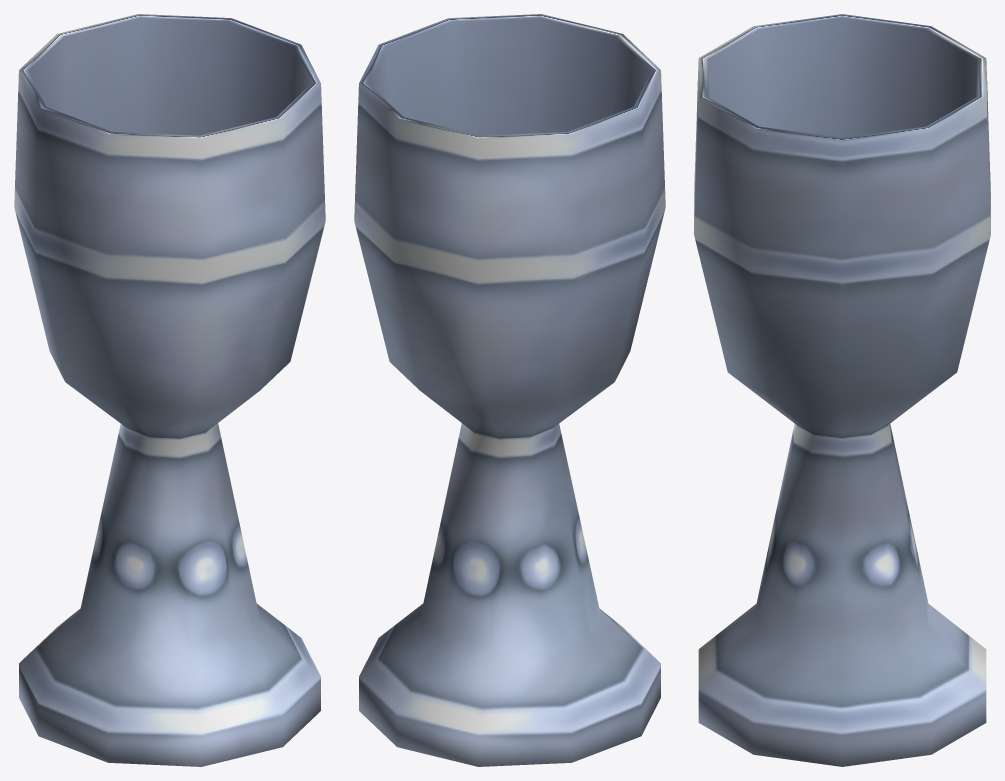
File: cup_06.fbx
The picture shows the model from 3 angles, left to right: view 1: azimuth 30°, elevation 25°; view 2: azimuth 150°, elevation 25°; view 3: azimuth 270°, elevation 25°; orthographic projection.
Parts seen in each view (by area): view 1: cup_06; view 2: cup_06; view 3: cup_06.
Boxes of the visible parts, x1,y1,x2,y2 form: cup_06: (14,14,325,766); cup_06: (354,14,665,766); cup_06: (694,14,990,766).
Bounding box in the file's own units: 7.45 × 16.46 × 7.08.
